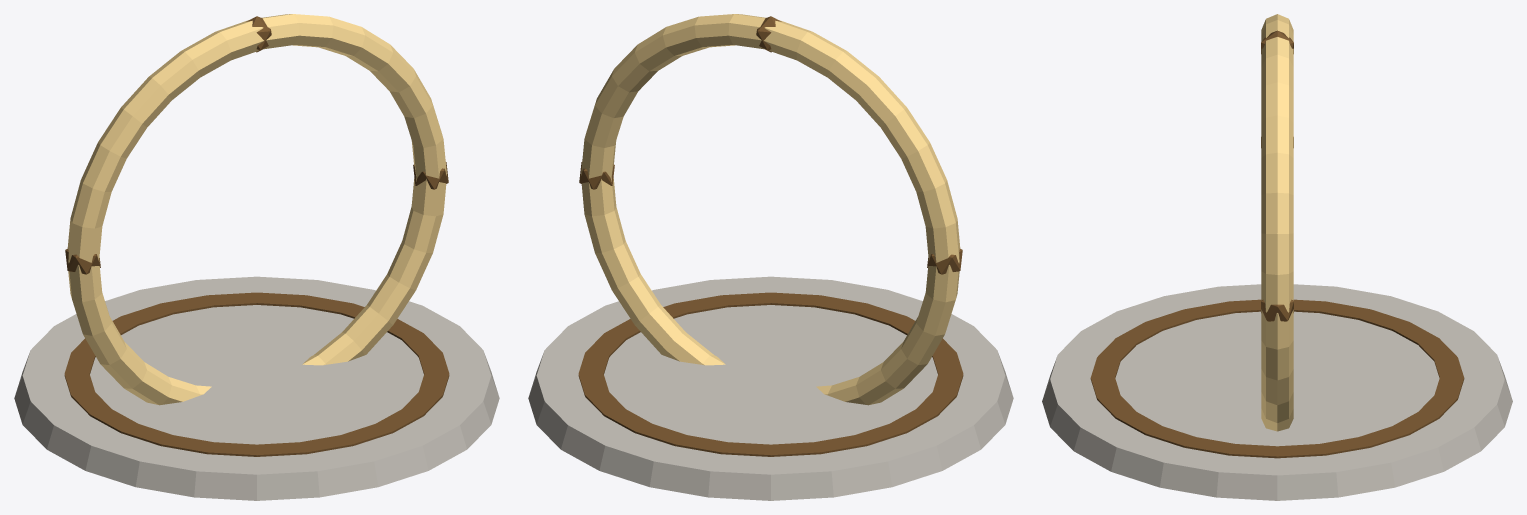
The model's file is TeleportRing.fbx.
3 renders of one model, left to right at view 1: azimuth 30°, elevation 25°; view 2: azimuth 150°, elevation 25°; view 3: azimuth 270°, elevation 25°, orthographic. The views are drawn at different scales.
Parts seen in each view (by area): view 1: TeleportRing; view 2: TeleportRing; view 3: TeleportRing.
Boxes of the visible parts, left/top/right/bottom form: TeleportRing: left=14, top=14, right=499, bottom=500; TeleportRing: left=528, top=14, right=1013, bottom=500; TeleportRing: left=1042, top=14, right=1512, bottom=500.
Bounding box in the file's own units: 2.9 × 2.64 × 2.9.
